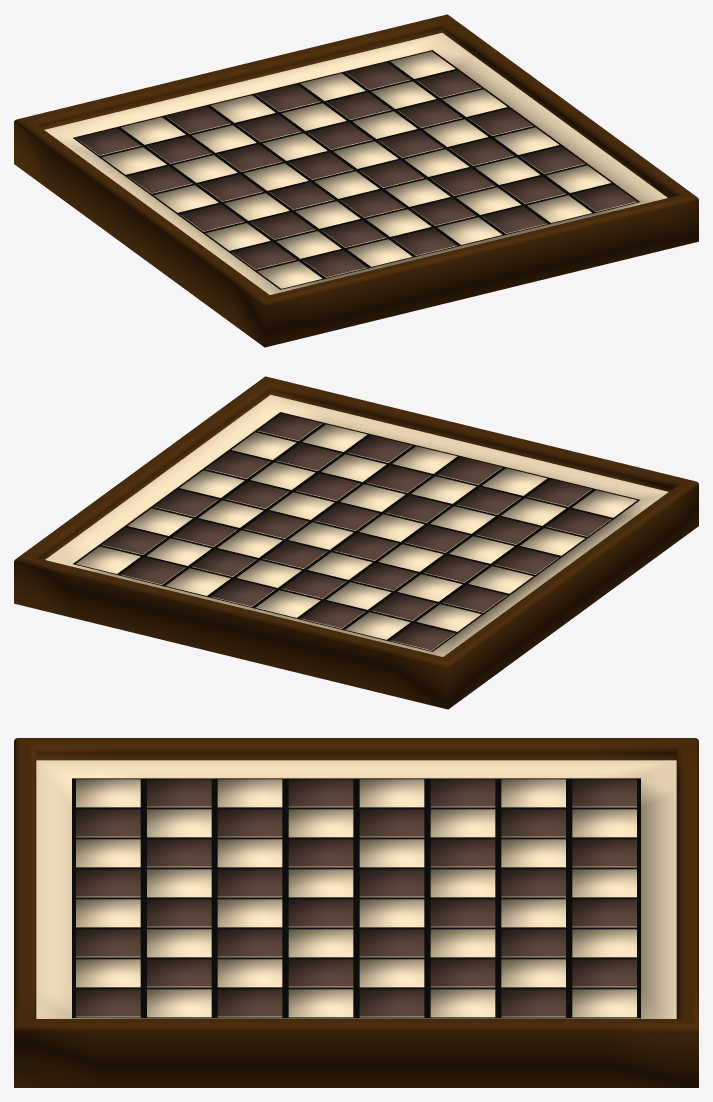
The model's file is Board_Type3.fbx.
3 renders of one model, top to bottom at view 1: azimuth 30°, elevation 25°; view 2: azimuth 150°, elevation 25°; view 3: azimuth 270°, elevation 25°, orthographic. The views are drawn at different scales.
Visible parts, largest first — view 1: Cube.002; view 2: Cube.002; view 3: Cube.002.
Part boxes in pixels (x1,y1,x2,y2): Cube.002: (14,14,698,347); Cube.002: (14,376,698,709); Cube.002: (14,738,698,1087).
Size of the model in its own units: 9.66 by 0.9704 by 9.66.
